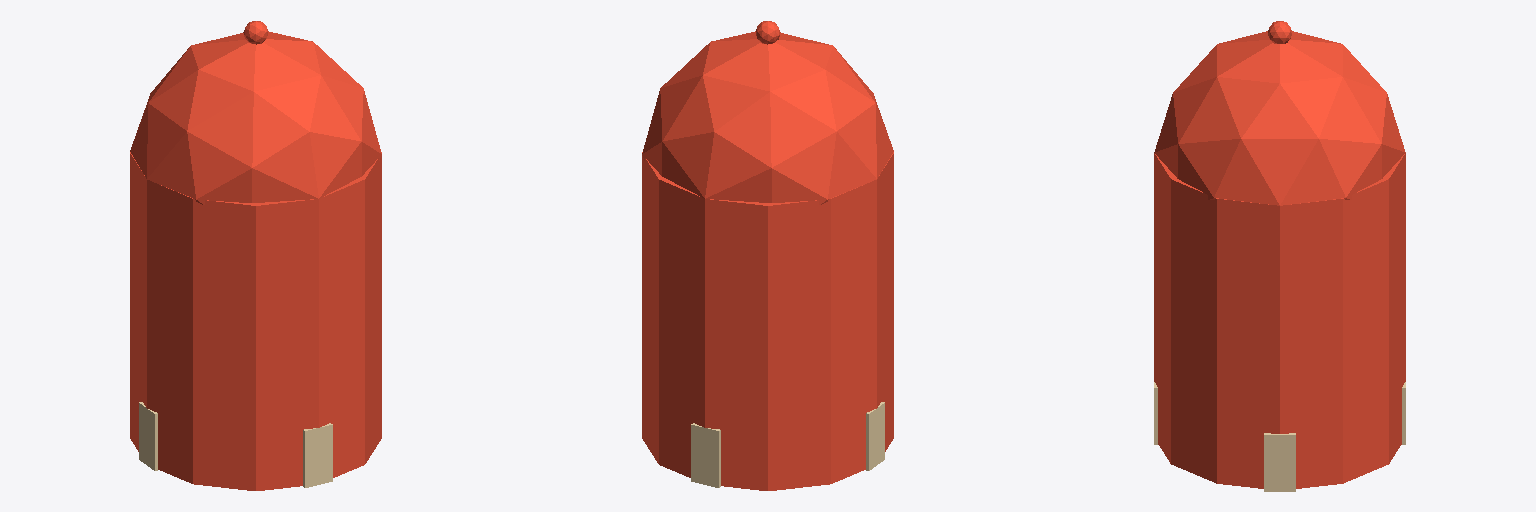
robot.urdf — takosan-wiener:
<?xml version="1.0"?>
<robot name="takosan-wiener"
       xmlns:xi="http://www.w3.org/2001/XInclude">
  <gazebo>
    <static>false</static>
  </gazebo>
  <link name="nil_link">
    <visual>
      <origin xyz="0 0 0" rpy="0 -0 0"/>
      <geometry>
        <mesh filename="model://takosan-wiener/meshes/nil_link_mesh.dae" scale="1 1 1" />
      </geometry>
    </visual>
    <collision>
      <origin xyz="0 0 0" rpy="0 -0 0"/>
      <geometry>
        <mesh filename="model://takosan-wiener/meshes/nil_link_mesh.dae" scale="1 1 1" />
      </geometry>
    </collision>
    <inertial>
      <mass value="0.001" />
      <origin xyz="0 0 0" rpy="0 -0 0"/>
      <inertia ixx="1e-03" ixy="0" ixz="0" iyy="1e-03" iyz="0" izz="1e-03"/>
    </inertial>
  </link>
  <gazebo reference="nil_link">
    <mu1>0.9</mu1>
    <mu2>0.9</mu2>
  </gazebo>
</robot>

--- Render facts (derived) ---
Views: 3 orthographic renders of the robot side by side, from view 1: azimuth 30°, elevation 25°; view 2: azimuth 150°, elevation 25°; view 3: azimuth 270°, elevation 25°.
Model takosan-wiener with 1 links and 0 joints (none), rooted at nil_link, posed every joint at zero.
Links seen in each view (by area): view 1: nil_link; view 2: nil_link; view 3: nil_link.
Link boxes in pixels (x1=…): nil_link: x1=130, y1=21, x2=381, y2=490; nil_link: x1=642, y1=21, x2=893, y2=490; nil_link: x1=1154, y1=21, x2=1405, y2=491.
Size in the robot's own frame: 0.04 by 0.04 by 0.0731 metres.
Meshes: 1 distinct files referenced, 1 mesh visuals loaded (1 Collada DAE).
